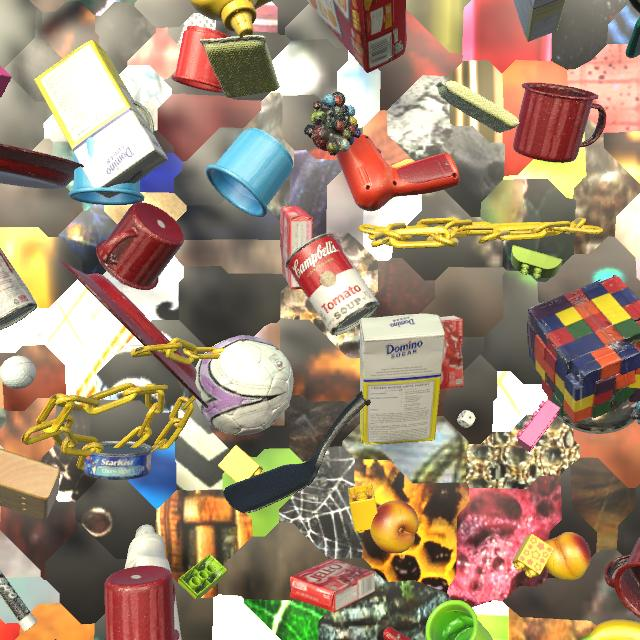ycb_003_cracker_box: (307, 0, 407, 73)
ycb_004_sugar_box: (34, 40, 168, 198), (360, 314, 445, 445), (513, 0, 566, 42)
ycb_005_tomato_soup_can: (285, 233, 380, 336), (0, 248, 37, 330), (131, 100, 154, 134)
ycb_006_mustard_bottle: (189, 0, 258, 38)
ycb_007_tuna_fish_can: (84, 441, 152, 480)
ycb_009_gelatin_box: (290, 558, 375, 612), (280, 206, 313, 290), (440, 315, 464, 389)
ycb_011_banana: (581, 619, 640, 640), (254, 0, 273, 9)
ycb_015_peach: (370, 501, 419, 554), (545, 532, 591, 581)
